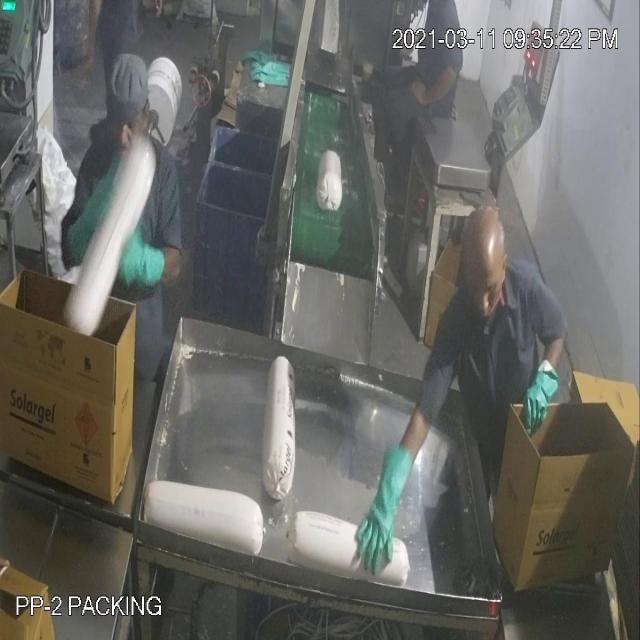No_Gloves: (57, 60, 543, 506)
